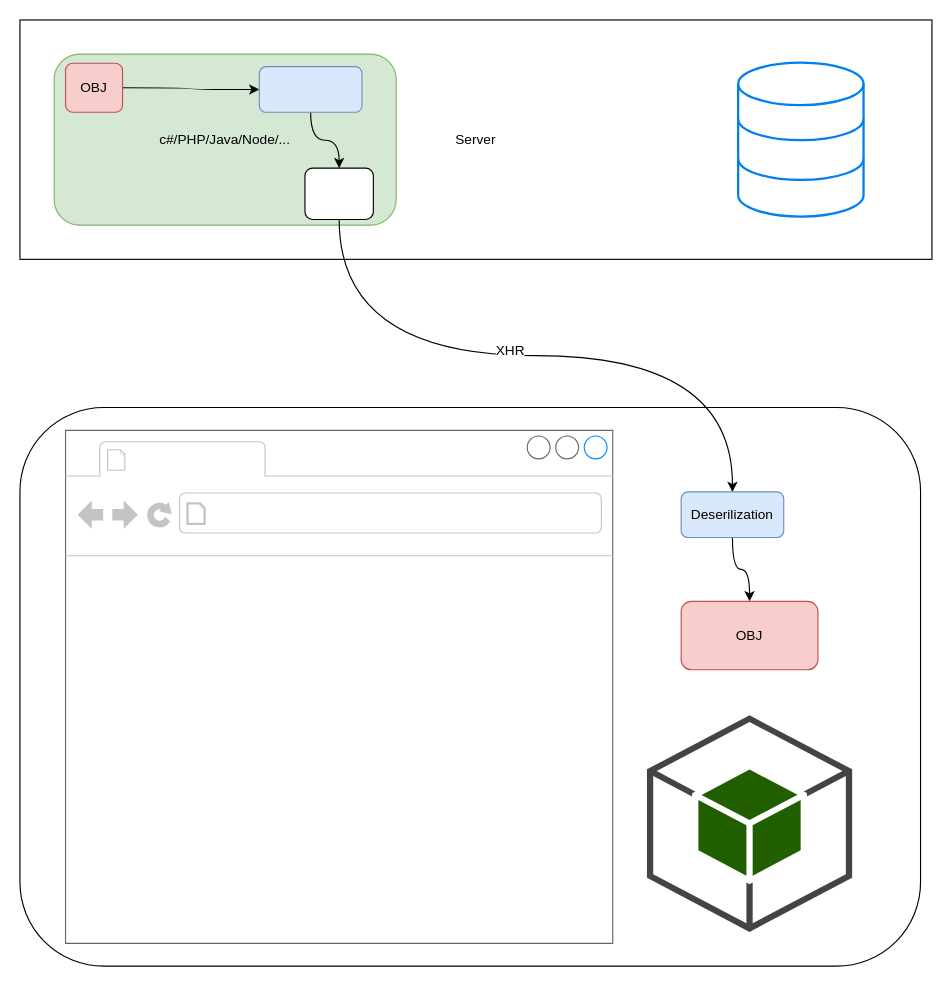
Image size: 952x986. Some labels were removed from this diagram. The centre of each missing label's shape, as x and y in pixels:
"Page 1" goes at [196,456].
"Serilization" goes at [310,89].
"XML JSON Protobuf" goes at [338,193].
